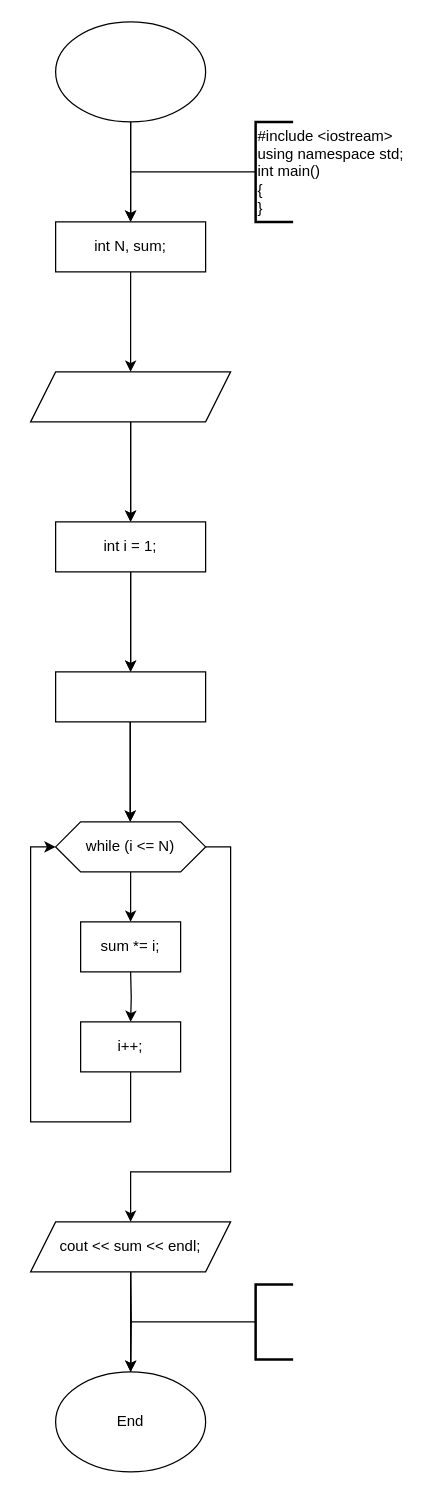
Some shapes in this 426 by 1494 pixel diagram are drawn without their labels. The centre of each missing label's shape, as x and y in pixels:
cin >> N;: the point at 130,396
return 0;: the point at 274,1321
Start: the point at 130,71
sum = 1;: the point at 130,696
